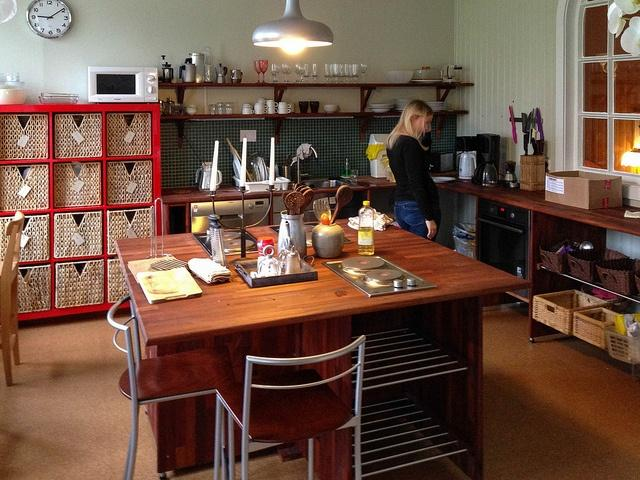Rak: (0, 102, 164, 322)
